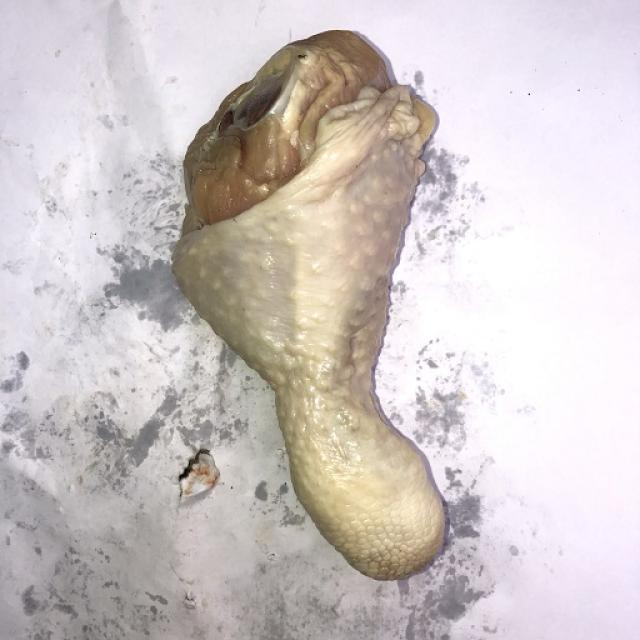chicken: (169, 28, 449, 581)
